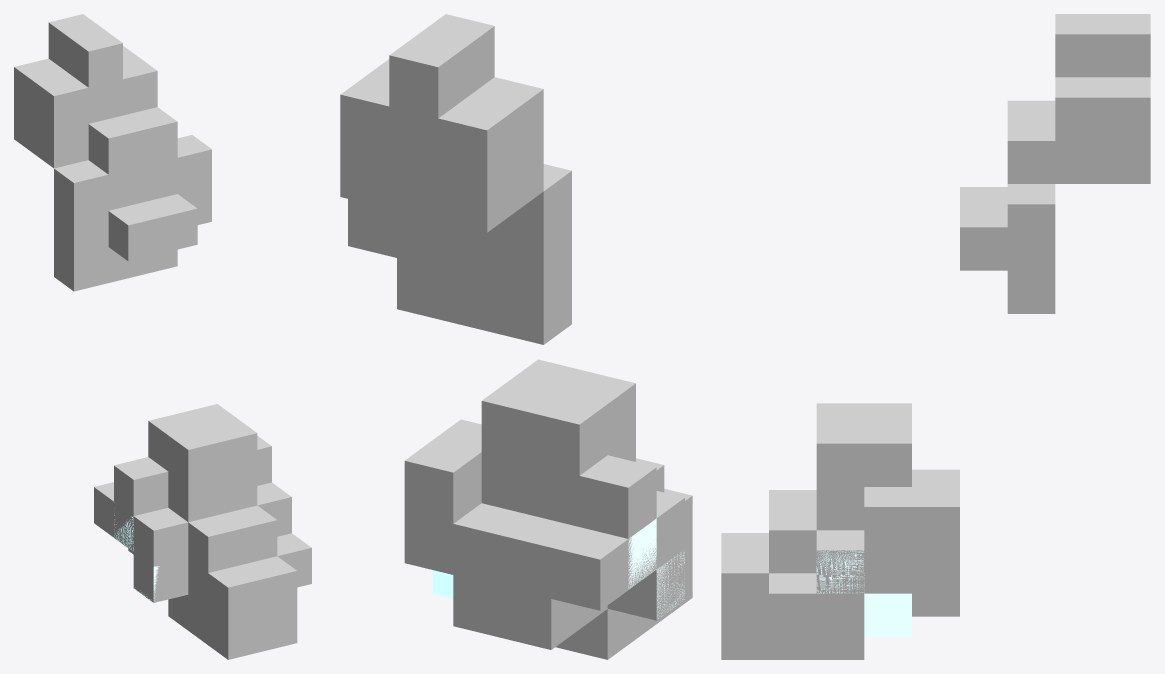
The model's file is IceDrill_A_T2_Upgrades.fbx.
The picture shows the model from 3 angles, left to right: view 1: azimuth 30°, elevation 25°; view 2: azimuth 150°, elevation 25°; view 3: azimuth 270°, elevation 25°; orthographic projection. The views are drawn at different scales.
Parts seen in each view (by area): view 1: IceDrillT2U1Steel, IceDrillT2U3Brass, IceDrillT2U2Brass, IceDrillT2U5Diamond, IceDrillT2U1SteelLight; view 2: IceDrillT2U5Diamond, IceDrillT2U1Steel, IceDrillT2U2Brass, IceDrillT2U3Brass, IceDrillT2U5CrystalCyanGlow, IceDrillT2U1SteelLight; view 3: IceDrillT2U5Diamond, IceDrillT2U1Steel, IceDrillT2U2Brass, IceDrillT2U3Brass, IceDrillT2U5CrystalCyanGlow, IceDrillT2U1SteelLight.
Part boxes in pixels (bbox=[...]): IceDrillT2U1Steel: bbox=[114, 404, 297, 659]; IceDrillT2U3Brass: bbox=[54, 107, 211, 291]; IceDrillT2U2Brass: bbox=[14, 14, 157, 168]; IceDrillT2U5Diamond: bbox=[94, 405, 311, 587]; IceDrillT2U1SteelLight: bbox=[168, 595, 188, 630]; IceDrillT2U5Diamond: bbox=[404, 359, 684, 649]; IceDrillT2U1Steel: bbox=[433, 380, 692, 638]; IceDrillT2U2Brass: bbox=[340, 14, 543, 232]; IceDrillT2U3Brass: bbox=[348, 164, 571, 344]; IceDrillT2U5CrystalCyanGlow: bbox=[432, 518, 684, 618]; IceDrillT2U1SteelLight: bbox=[555, 609, 635, 659]; IceDrillT2U5Diamond: bbox=[721, 403, 959, 659]; IceDrillT2U1Steel: bbox=[721, 403, 911, 659]; IceDrillT2U2Brass: bbox=[1055, 14, 1150, 183]; IceDrillT2U3Brass: bbox=[960, 100, 1055, 313]; IceDrillT2U5CrystalCyanGlow: bbox=[816, 550, 911, 636]; IceDrillT2U1SteelLight: bbox=[816, 637, 864, 659].
Size of the model in its own units: 50 by 175 by 113.
